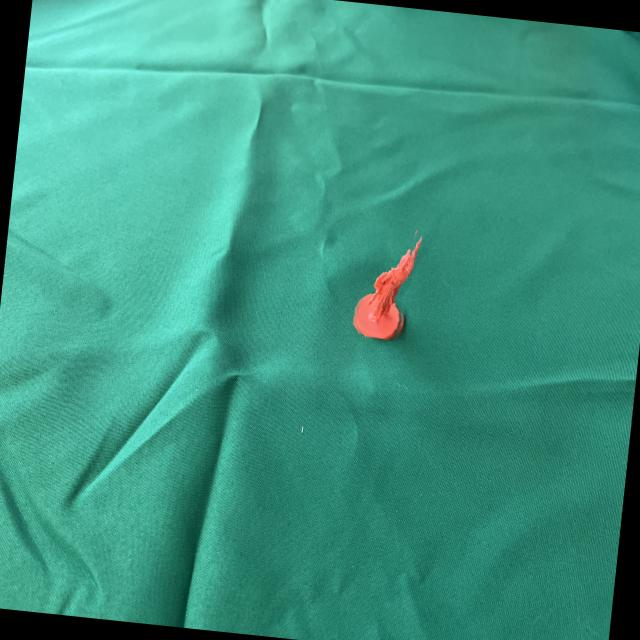amon_follower: (353, 235, 421, 340)
